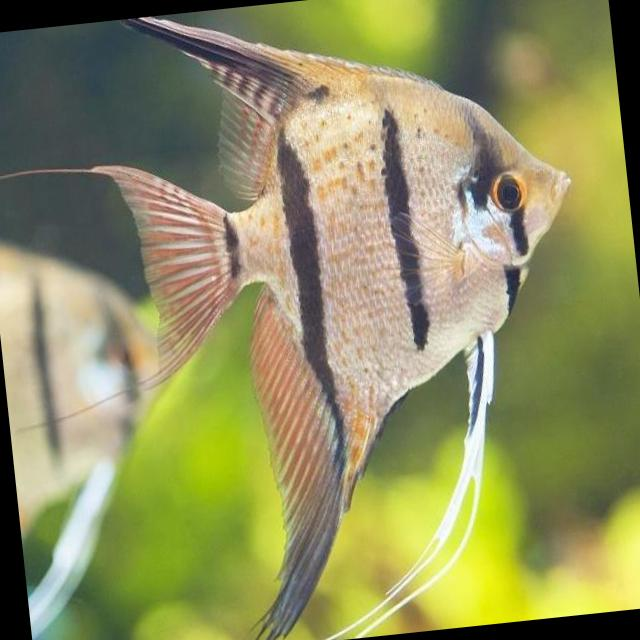AngelFish: (100, 0, 615, 640)
